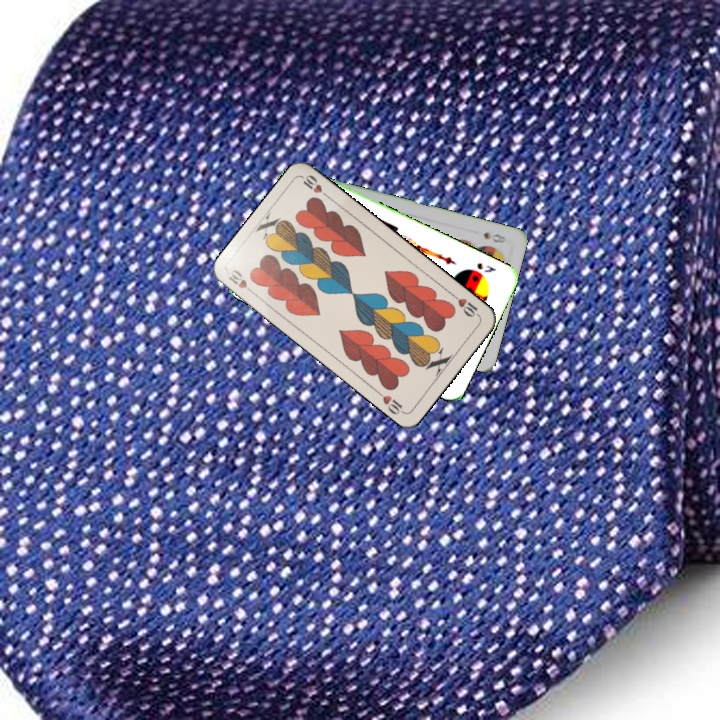H10: (224, 265, 259, 298), (448, 290, 482, 320)
S8: (479, 228, 509, 246)
SK: (473, 258, 499, 275)
